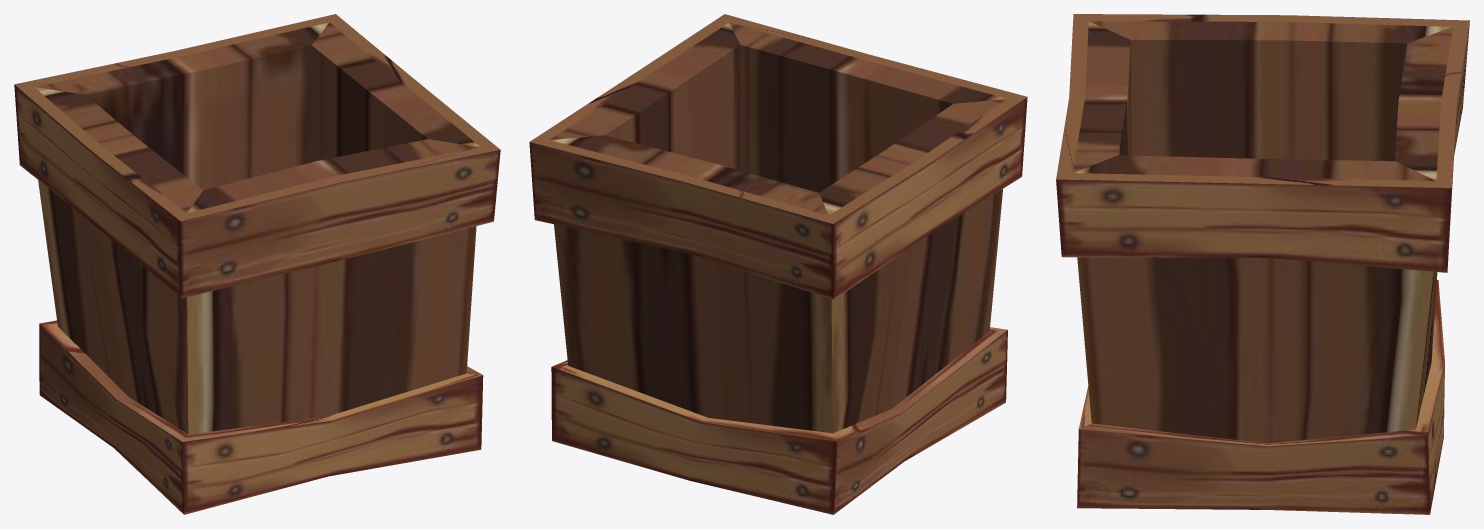
Rendered from SM_PROP_box_04.glb.
3 renders of one model, left to right at view 1: azimuth 30°, elevation 25°; view 2: azimuth 150°, elevation 25°; view 3: azimuth 270°, elevation 25°, orthographic. The views are drawn at different scales.
Parts seen in each view (by area): view 1: SM_PROP_box_04_EXPORT; view 2: SM_PROP_box_04_EXPORT; view 3: SM_PROP_box_04_EXPORT.
Boxes of the visible parts, x1,y1,x2,y2 form: SM_PROP_box_04_EXPORT: (14, 14, 500, 514); SM_PROP_box_04_EXPORT: (529, 14, 1027, 514); SM_PROP_box_04_EXPORT: (1056, 14, 1469, 514).
Bounding box in the file's own units: 0.9459 × 0.845 × 0.9441.
2 materials, 2 textured.
